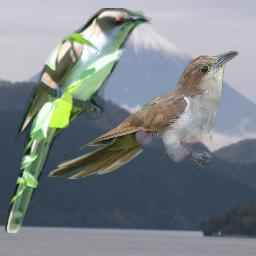Cuckoo: (5, 8, 152, 233), (47, 50, 239, 179)
